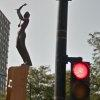Statue: (11, 3, 35, 76)
